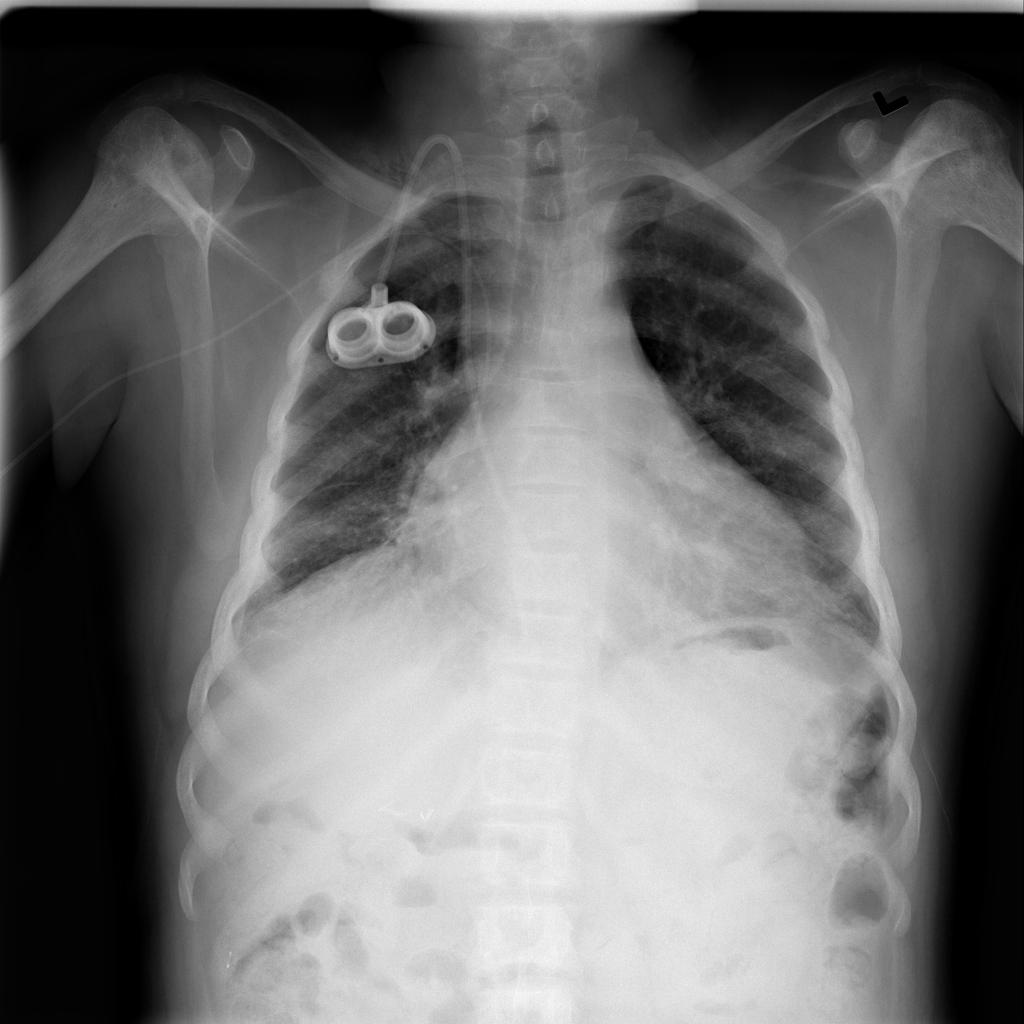Cardiomegaly: (386, 344, 850, 733)
